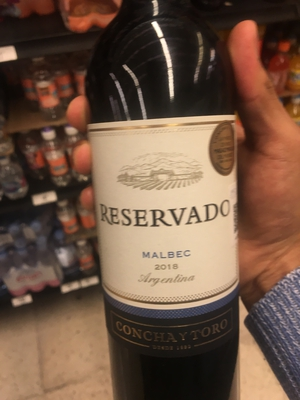reservado malbec: (79, 11, 245, 400)
